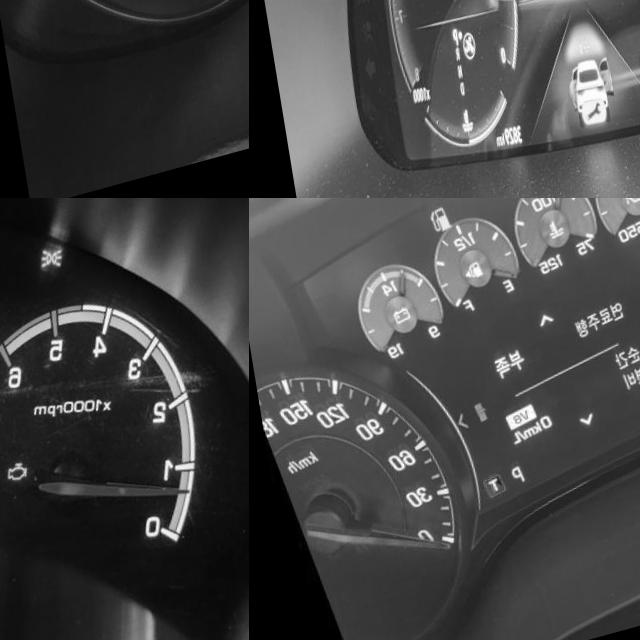Low fuel level: (421, 213, 447, 247)
SideLamp: (31, 262, 62, 294)
